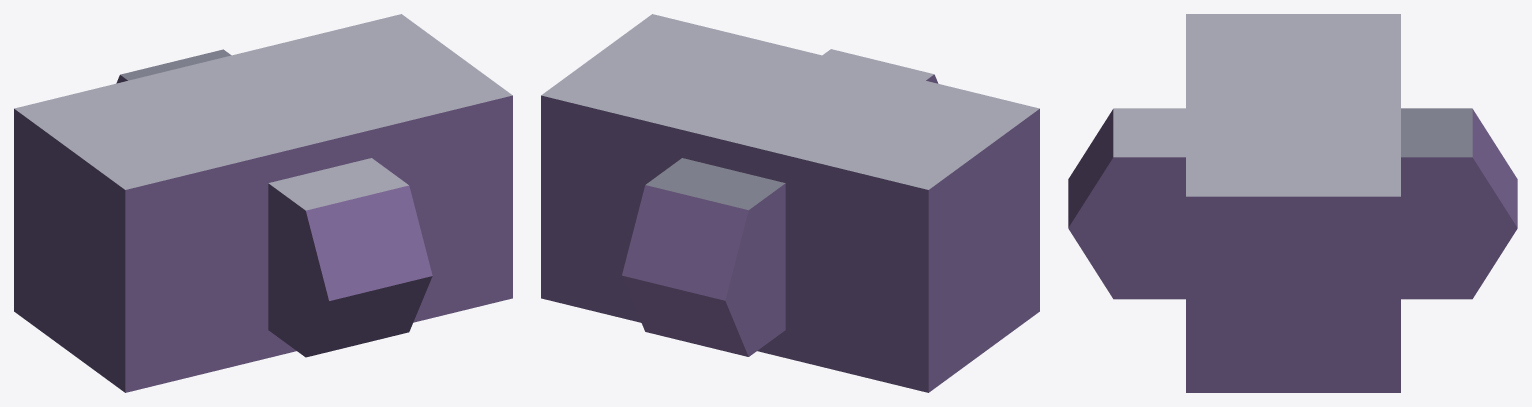
The model's file is claw_axis.glb.
3 views of the same model, side by side, from view 1: azimuth 30°, elevation 25°; view 2: azimuth 150°, elevation 25°; view 3: azimuth 270°, elevation 25° (orthographic). The views are drawn at different scales.
Visible parts, largest first — view 1: claw_axis; view 2: claw_axis; view 3: claw_axis.
Boxes of the visible parts, x1=… form: claw_axis: x1=14, y1=14, x2=512, y2=392; claw_axis: x1=541, y1=14, x2=1039, y2=392; claw_axis: x1=1068, y1=14, x2=1517, y2=392.
Bounding box in the file's own units: 1.41 × 0.7074 × 1.47.
